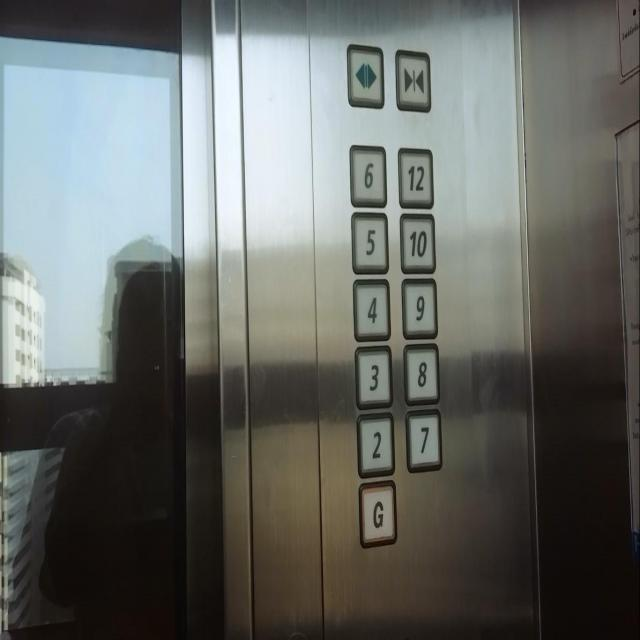10: (398, 212, 436, 272)
12: (397, 146, 434, 210)
2: (356, 411, 395, 478)
3: (353, 345, 392, 410)
4: (353, 277, 391, 341)
5: (350, 210, 390, 274)
6: (349, 142, 387, 208)
7: (405, 408, 443, 472)
8: (403, 342, 439, 405)
9: (400, 277, 438, 338)
G: (358, 478, 397, 548)
close: (394, 48, 432, 114)
open: (346, 42, 385, 110)
